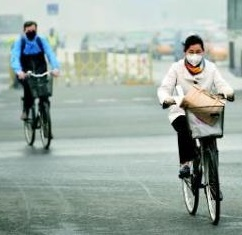person: (153, 32, 237, 229), (7, 17, 61, 154)
